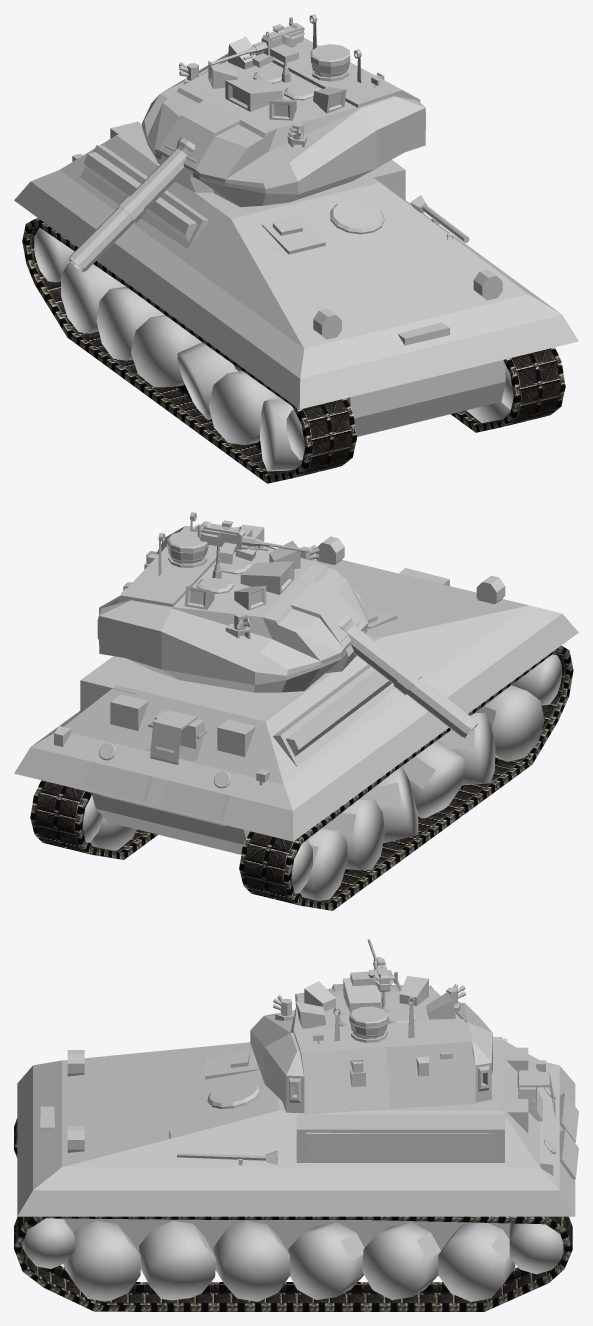
The model's file is FV101damaged Scorpion.fbx.
The picture shows the model from 3 angles, top to bottom: view 1: azimuth 30°, elevation 25°; view 2: azimuth 150°, elevation 25°; view 3: azimuth 270°, elevation 25°; orthographic projection. The views are drawn at different scales.
Visible parts, largest first — view 1: polySurface639, polySurface638, polySurface432; view 2: polySurface639, polySurface638, polySurface432; view 3: polySurface639, polySurface432.
Boxes of the visible parts, <box> form: polySurface639: <box>14,14,578,471</box>; polySurface638: <box>22,218,356,483</box>; polySurface432: <box>451,347,565,432</box>; polySurface639: <box>14,512,578,900</box>; polySurface638: <box>239,645,573,910</box>; polySurface432: <box>30,780,157,859</box>; polySurface639: <box>17,939,578,1301</box>; polySurface432: <box>14,1216,572,1311</box>.
Bounding box in the file's own units: 13.69 × 11.87 × 20.01.
